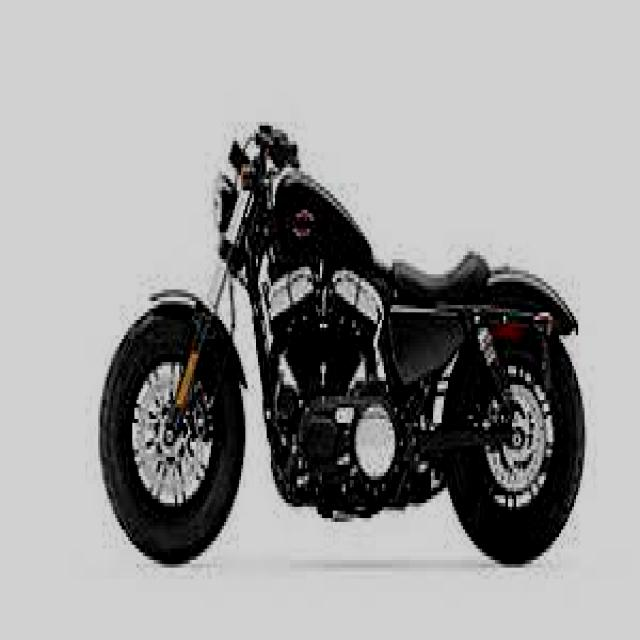MOTORCYCLE: (97, 124, 587, 563)
